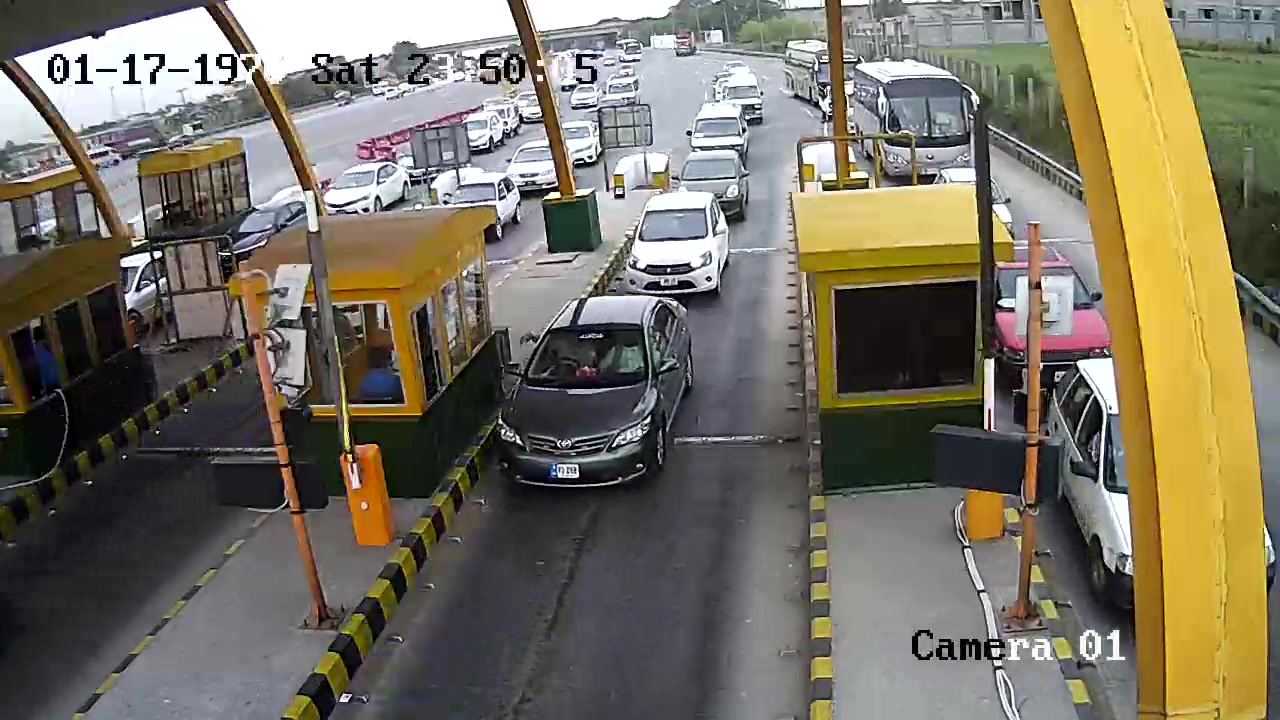F1: (489, 294, 710, 514)
